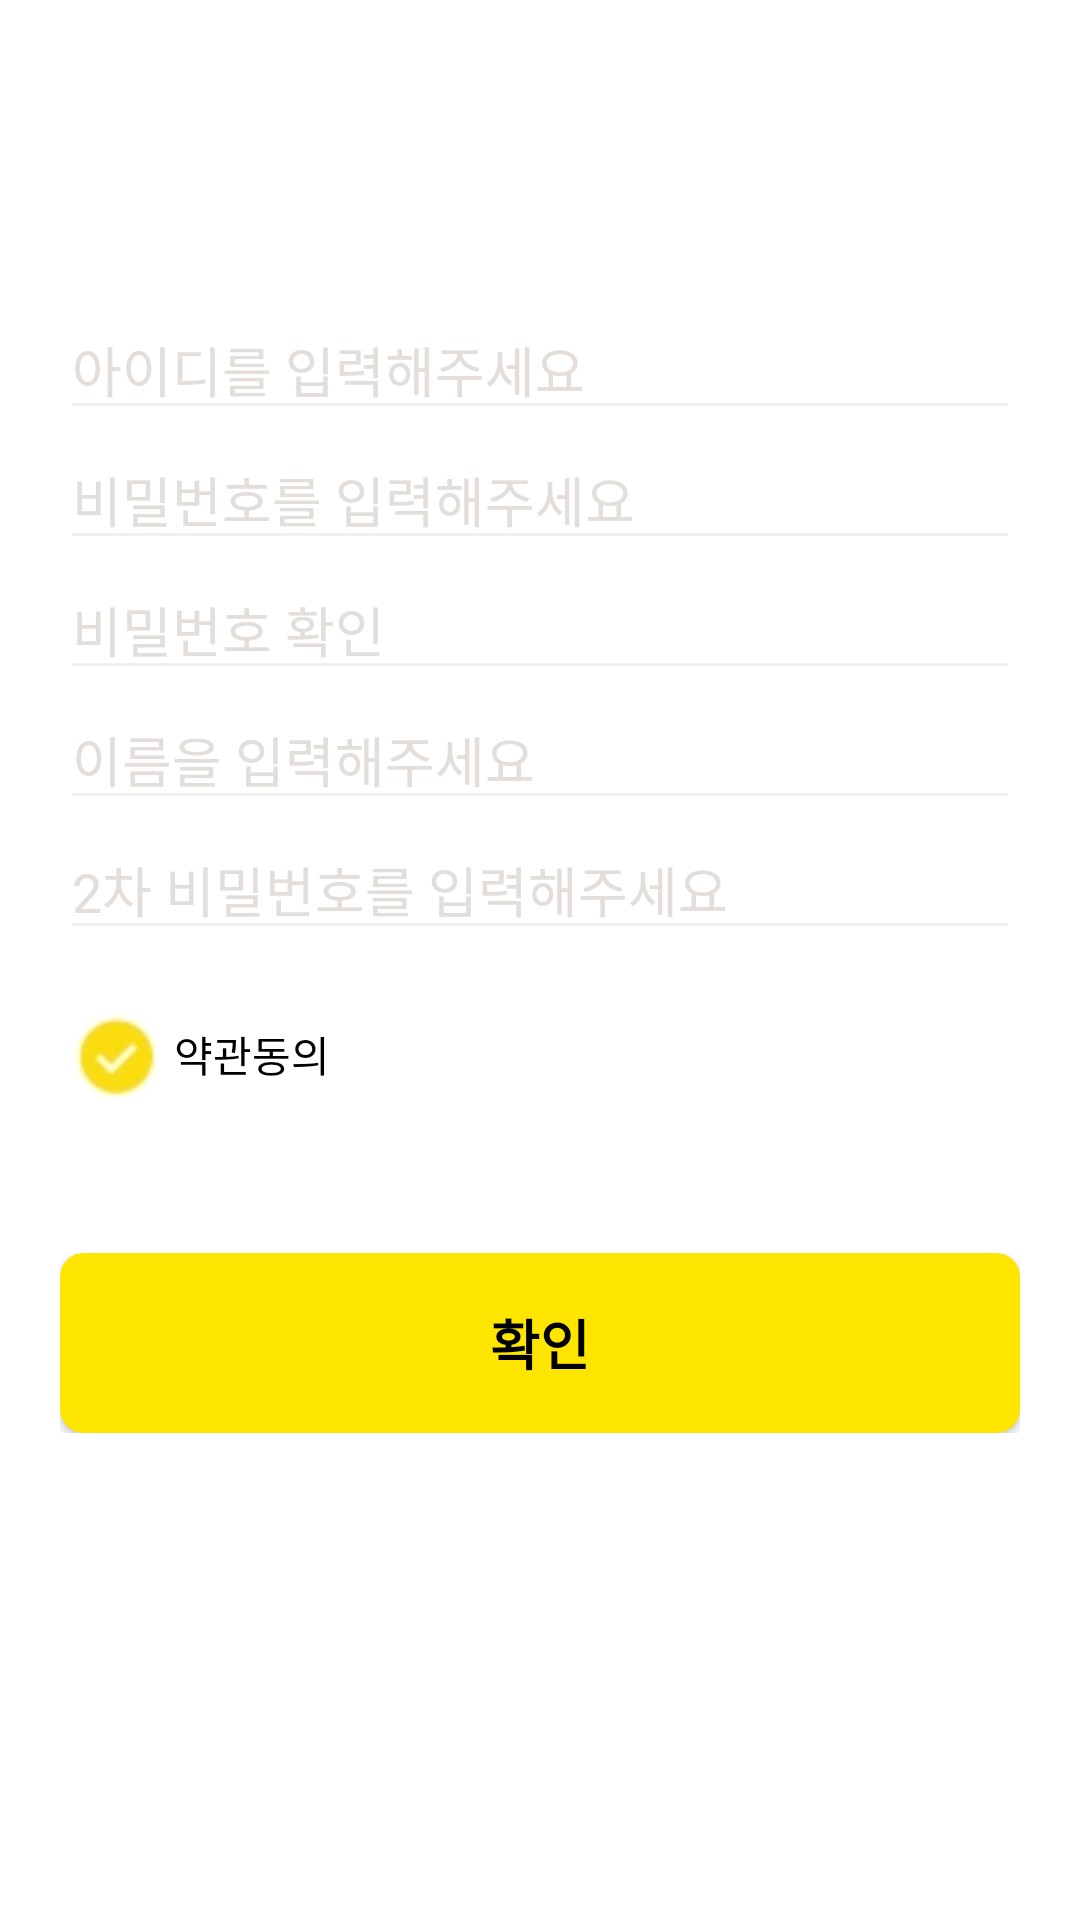

Icons on this 1080x1920 Android screen, each with the point to tap as (x=x, y=y):
kakao logincheck: (x=116, y=1056)
